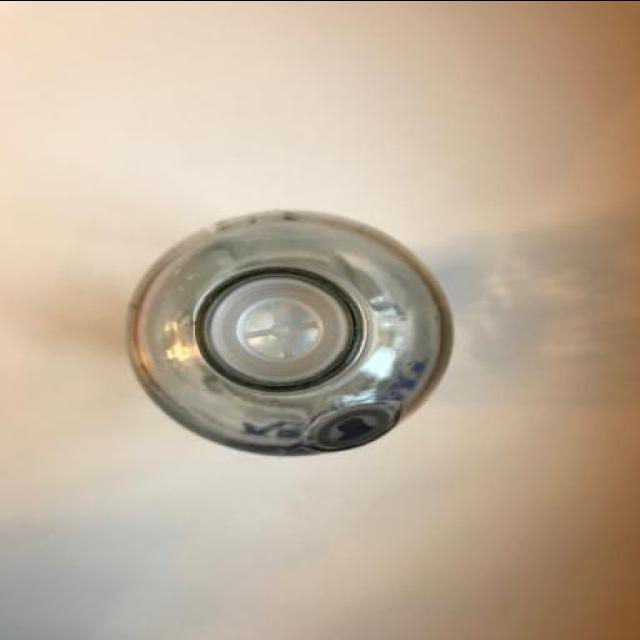glass: (132, 207, 456, 462)
